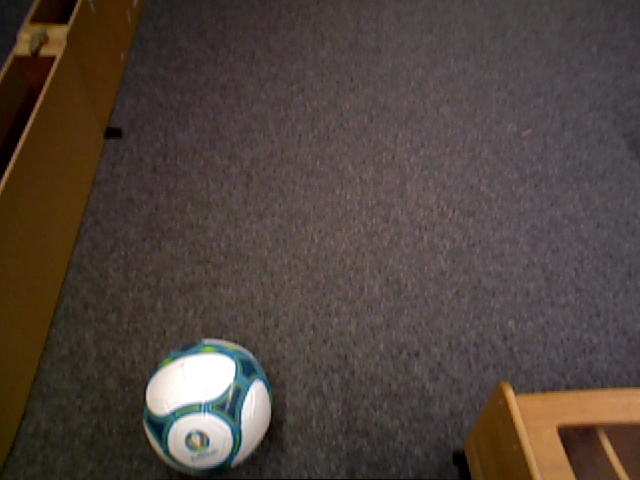kick: (141, 334, 272, 469)
